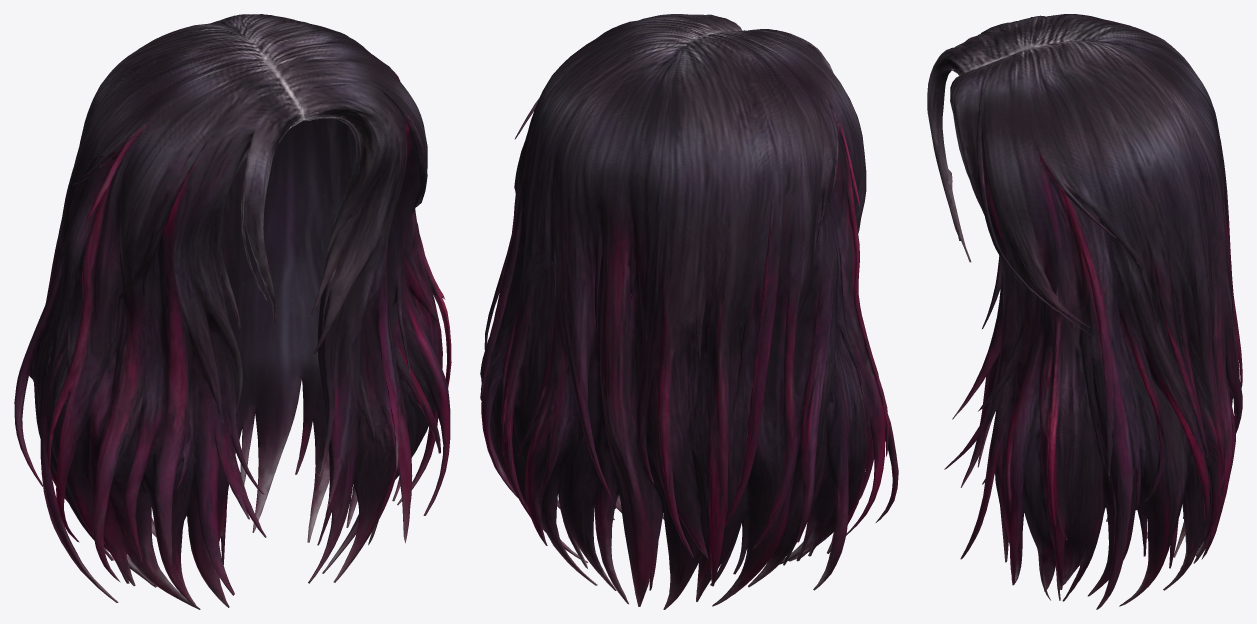
Rendered from kpop-crimson-hair.glb.
3 views of the same model, side by side, from view 1: azimuth 30°, elevation 25°; view 2: azimuth 150°, elevation 25°; view 3: azimuth 270°, elevation 25° (orthographic). The views are drawn at different scales.
Parts seen in each view (by area): view 1: tripo_node_159391cb-856f-47f8-b3e1-b6be686c7fb5; view 2: tripo_node_159391cb-856f-47f8-b3e1-b6be686c7fb5; view 3: tripo_node_159391cb-856f-47f8-b3e1-b6be686c7fb5.
Part boxes in pixels (bbox=[...]): tripo_node_159391cb-856f-47f8-b3e1-b6be686c7fb5: bbox=[14, 14, 451, 609]; tripo_node_159391cb-856f-47f8-b3e1-b6be686c7fb5: bbox=[480, 14, 898, 609]; tripo_node_159391cb-856f-47f8-b3e1-b6be686c7fb5: bbox=[927, 14, 1242, 609].
Size of the model in its own units: 1.52 by 2.01 by 1.08.
Materials: 1 (1 with a texture image).
